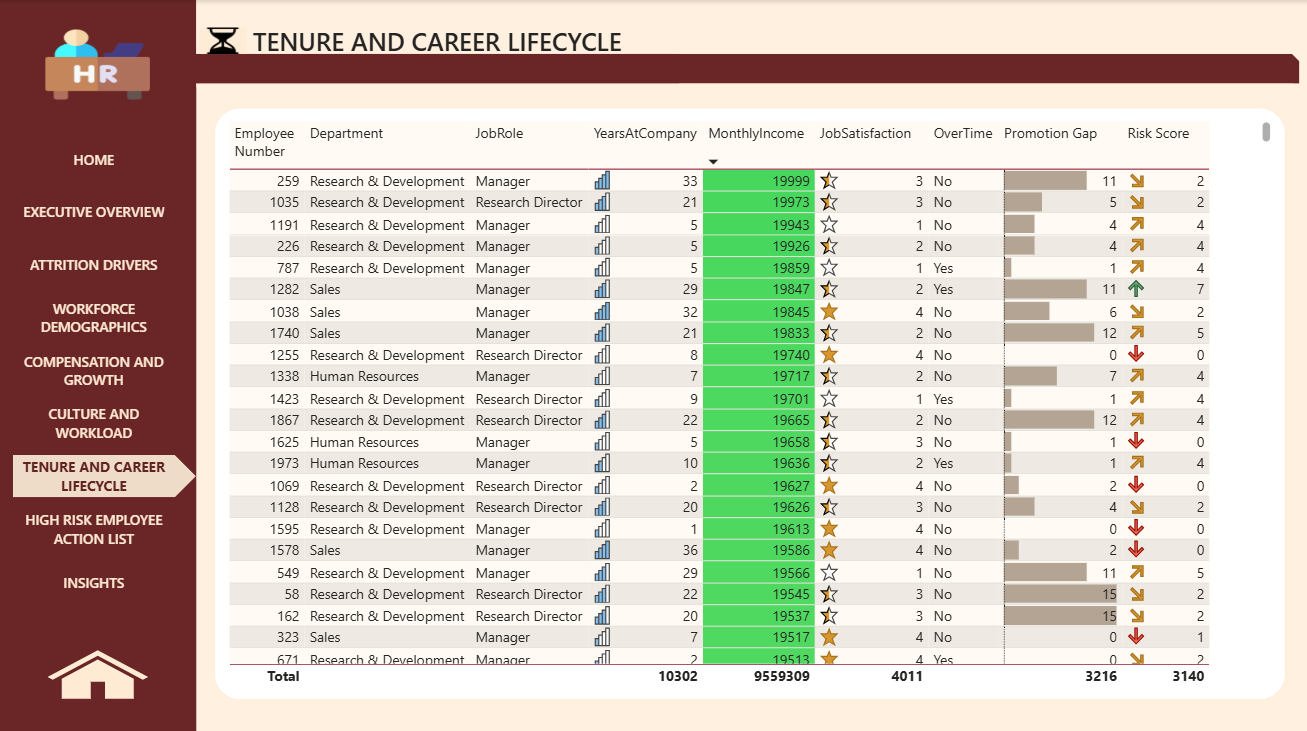

This screenshot's page, from the dashboard's own definition file:
{"tool":"powerbi","page":{"name":"TENURE AND CAREER LIFECYCLE","canvas":[1280,720],"ordinal":6},"visuals":[{"type":"tableEx","fields":{"Values":["Attrition.EmployeeNumber","Attrition.Department","Attrition.JobRole","Sum(Attrition.YearsAtCompany)","Sum(Attrition.MonthlyIncome)","Sum(Attrition.JobSatisfaction)","Attrition.OverTime","Sum(Attrition.YearsSinceLastPromotion)","Sum(Attrition.Attrition Risk Score)"]},"box":[207.9,103.9,1034.5,572.3],"z":0},{"type":"shape","box":[0,0,190.4,720.8],"z":1000},{"type":"shape","box":[0,51.9,1255.2,28.9],"z":2000},{"type":"textbox","box":[190.4,18.8,464.6,43.3],"z":3000},{"type":"pageNavigator","box":[13,132.7,177.5,455.9],"z":5000},{"type":"image","box":[27.4,26,134.2,72.1],"z":5001},{"type":"image","box":[190.4,26,50.5,26],"z":5002},{"type":"image","box":[40.4,618.9,111.1,63.5],"z":5003}]}

Visuals, with their boxes on the page's 1280x720 design canvas (x1, y1, x2, y2). These are canvas units, not pixel positions in the 1307x731 screenshot, which may show the page scaled, cropped or inside an application window:
tableEx - Attrition.EmployeeNumber x Attrition.Department: pyautogui.locateOnScreen(208, 104, 1242, 676)
shape: pyautogui.locateOnScreen(0, 0, 190, 721)
shape: pyautogui.locateOnScreen(0, 52, 1255, 81)
textbox: pyautogui.locateOnScreen(190, 19, 655, 62)
pageNavigator: pyautogui.locateOnScreen(13, 133, 190, 589)
image: pyautogui.locateOnScreen(27, 26, 162, 98)
image: pyautogui.locateOnScreen(190, 26, 241, 52)
image: pyautogui.locateOnScreen(40, 619, 152, 682)
